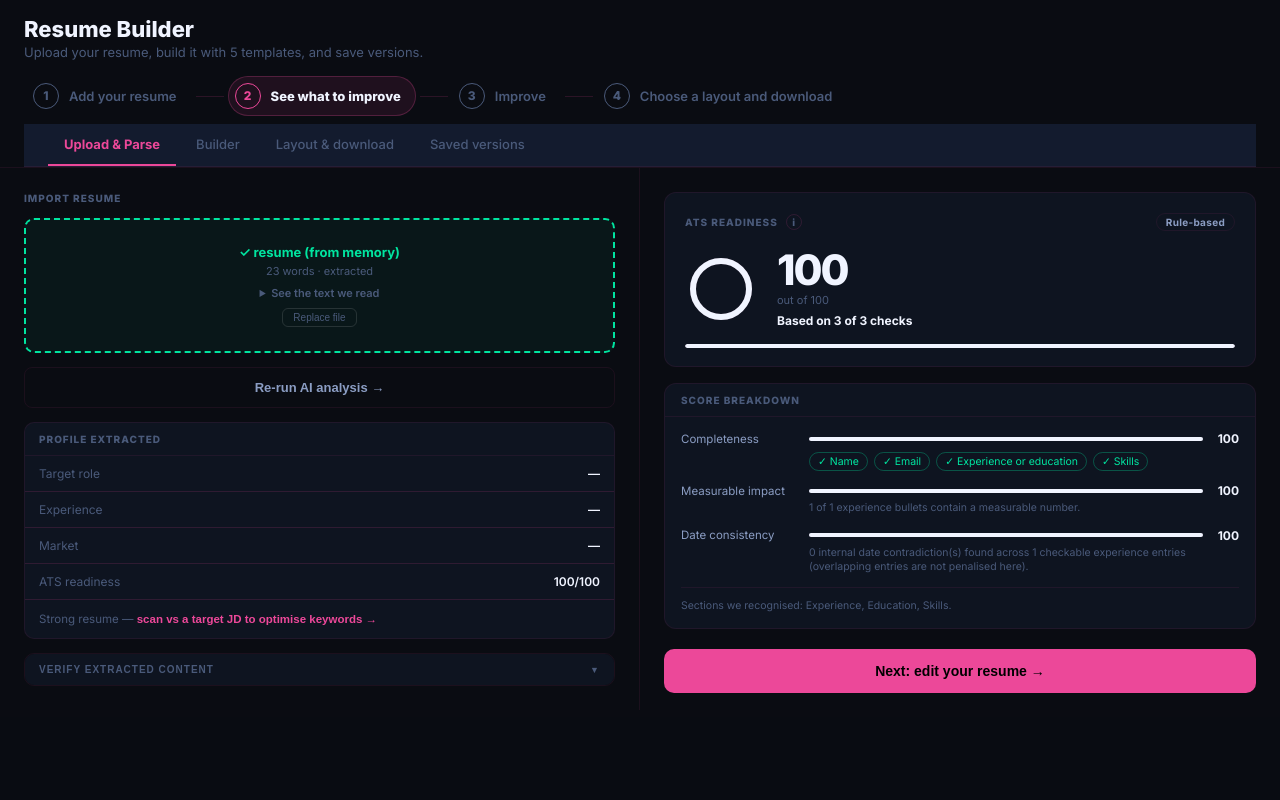
Test: the right column is the resume › says nothing about suggestions when there are none, and Review still opens the score
This screenshot has width=1280, height=800.
Click the button "Builder".
click(218, 145)  # box 180,124 -> 256,166
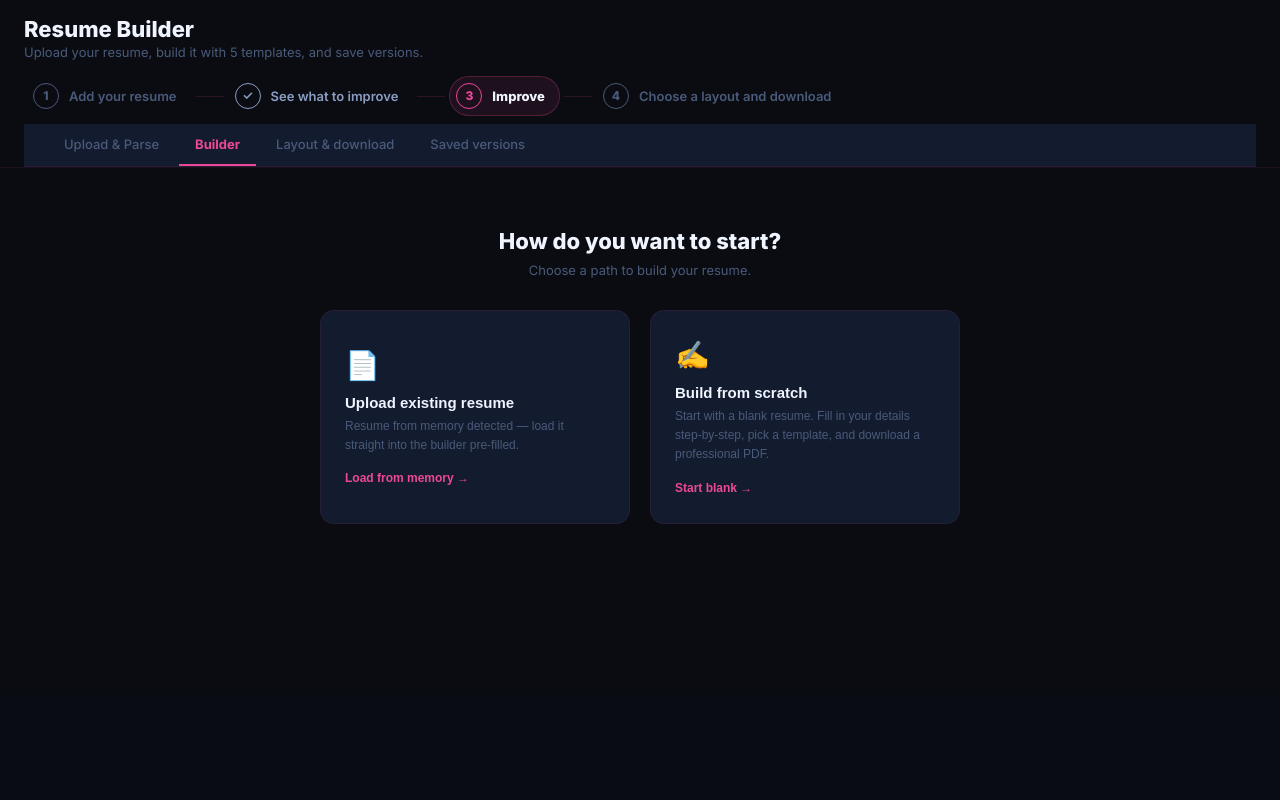
Click the text "Load from memory →".
click(407, 478)  # box 345,471 -> 469,485
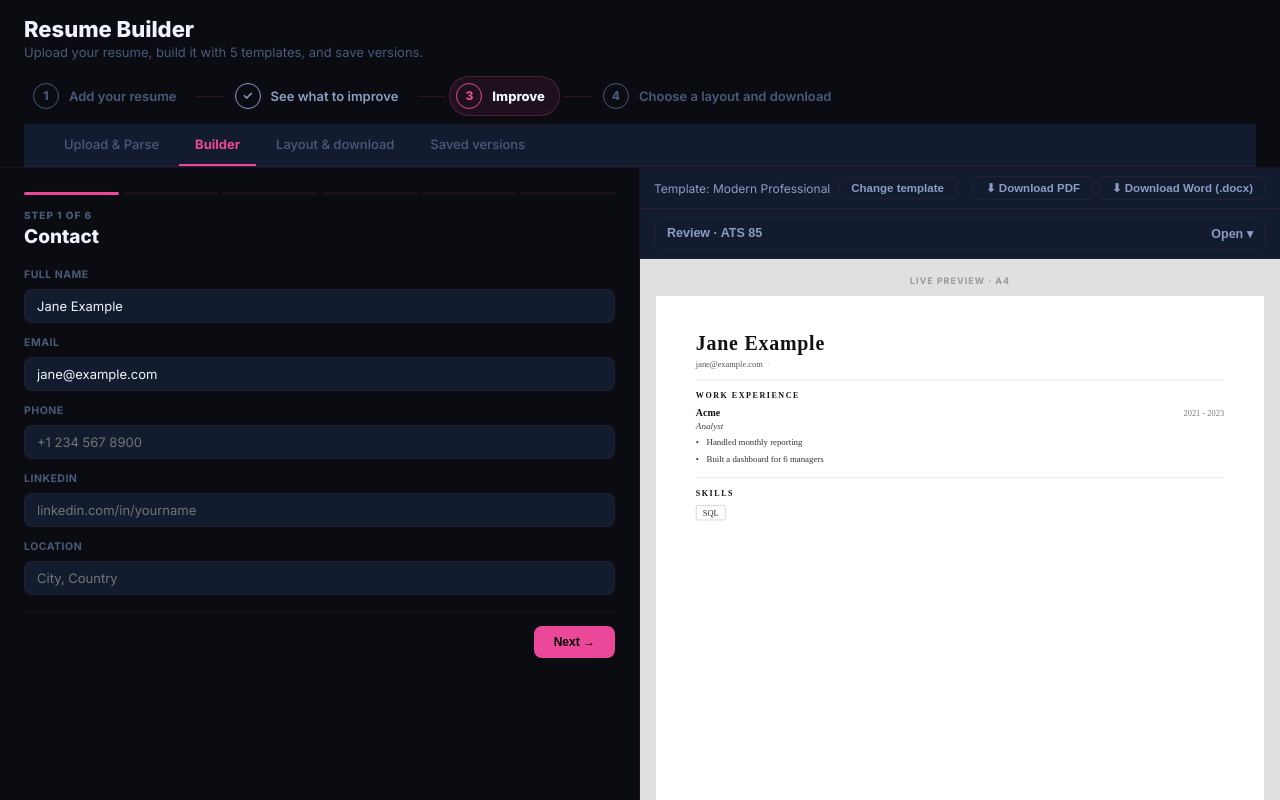
Result: the button "Review · ATS 85 Open ▾" is shown
Click the button "Review · ATS 85 Open ▾".
click(715, 233)  # box 654,217 -> 1266,250
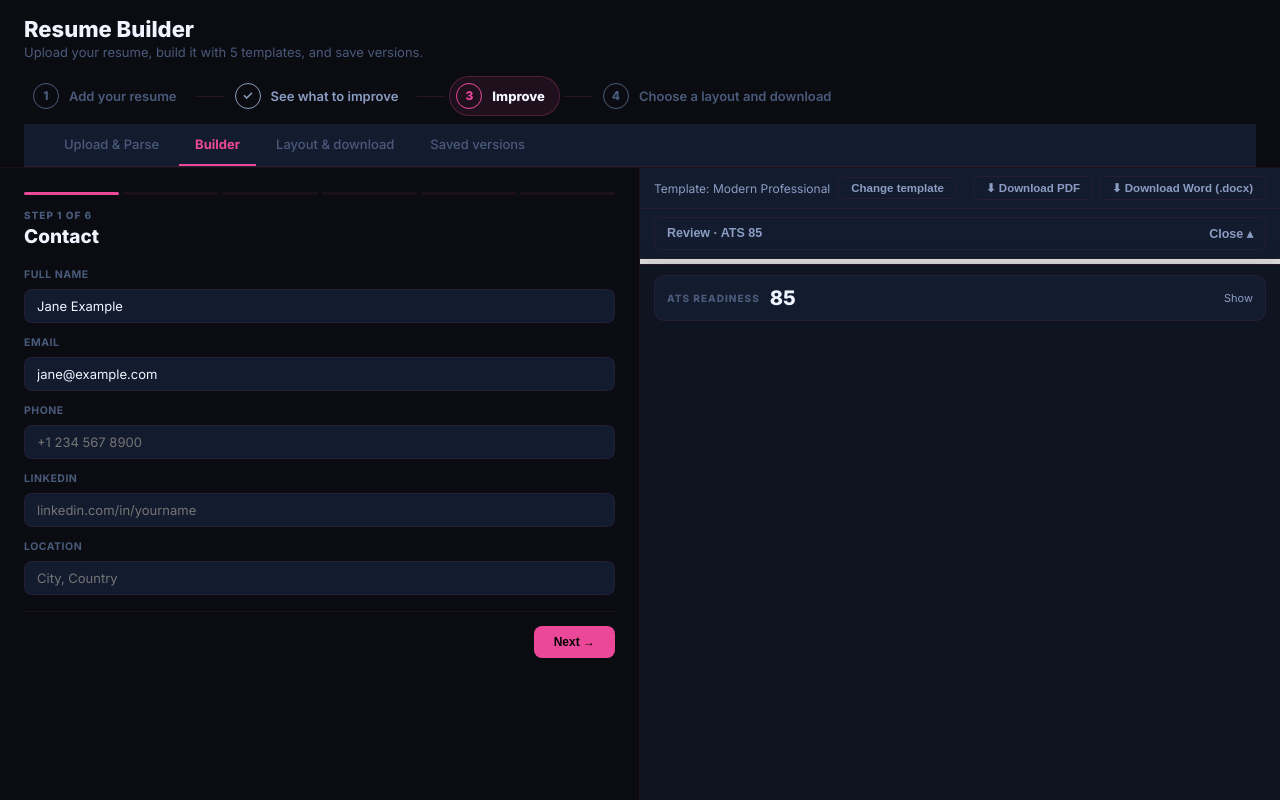
Result: the element named "ats readiness of this draft" is shown at 654,275 -> 1266,321
